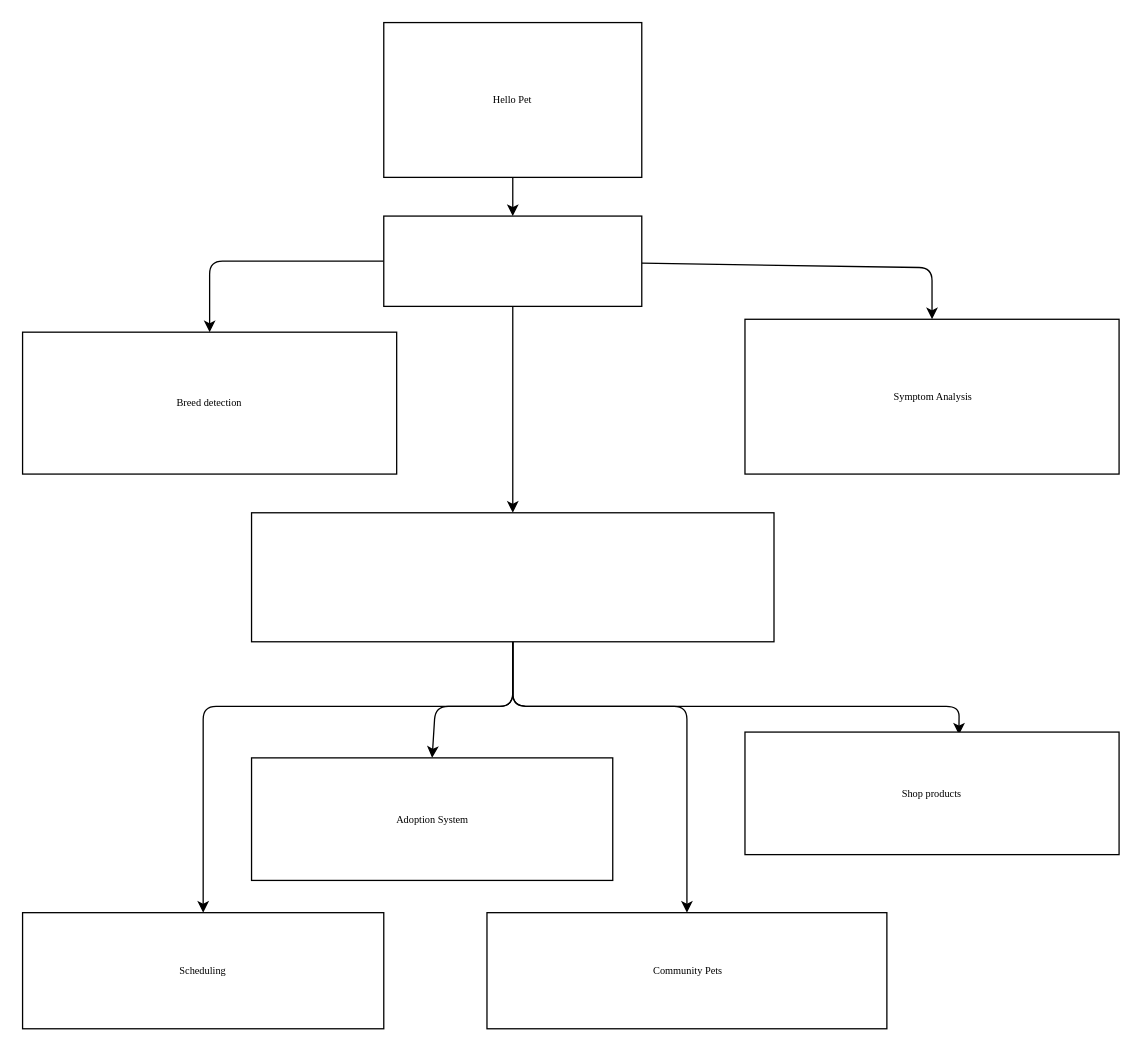
Image size: 1142x1051. Some labels were removed from this diagram. Each missing label, with the centre of its shape:
Create User and Pet Profile: pixel 512 576
Login/Register: pixel 512 260
